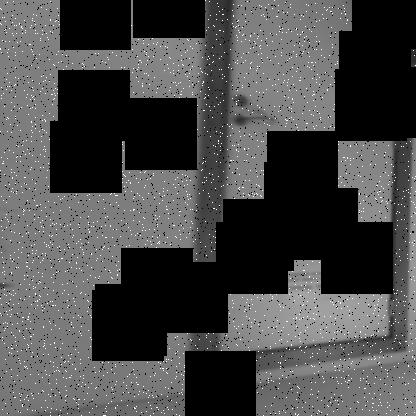Porte: (186, 0, 414, 382)
